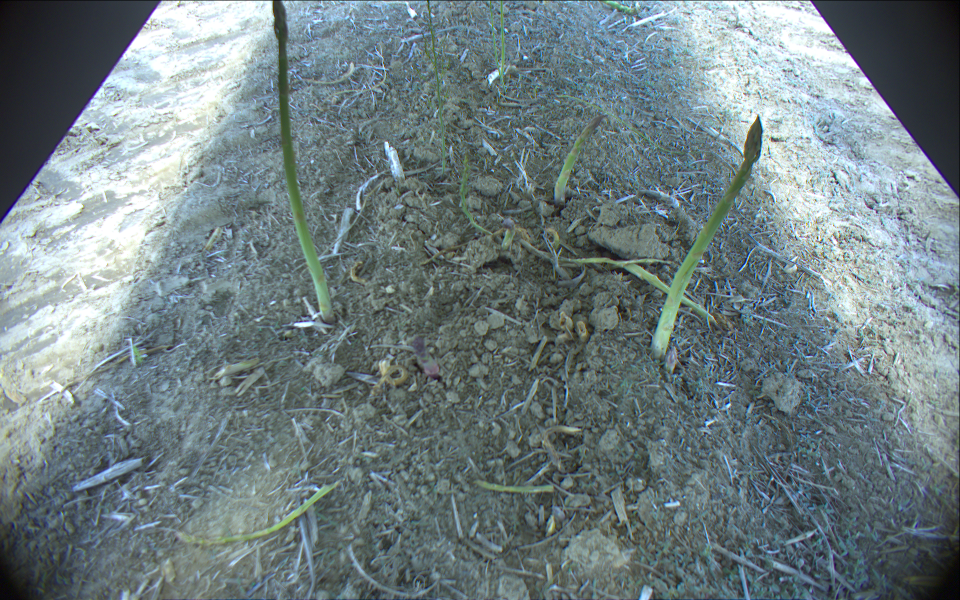aspa: (649, 116, 762, 357), (269, 1, 336, 325), (173, 480, 341, 548), (555, 93, 693, 155), (599, 259, 718, 324), (552, 114, 601, 208), (424, 1, 448, 179), (522, 243, 678, 266), (460, 158, 496, 239), (488, 1, 508, 88), (411, 335, 442, 382), (472, 478, 552, 494), (626, 9, 679, 31), (496, 217, 518, 256), (499, 1, 507, 82), (602, 1, 638, 14)
